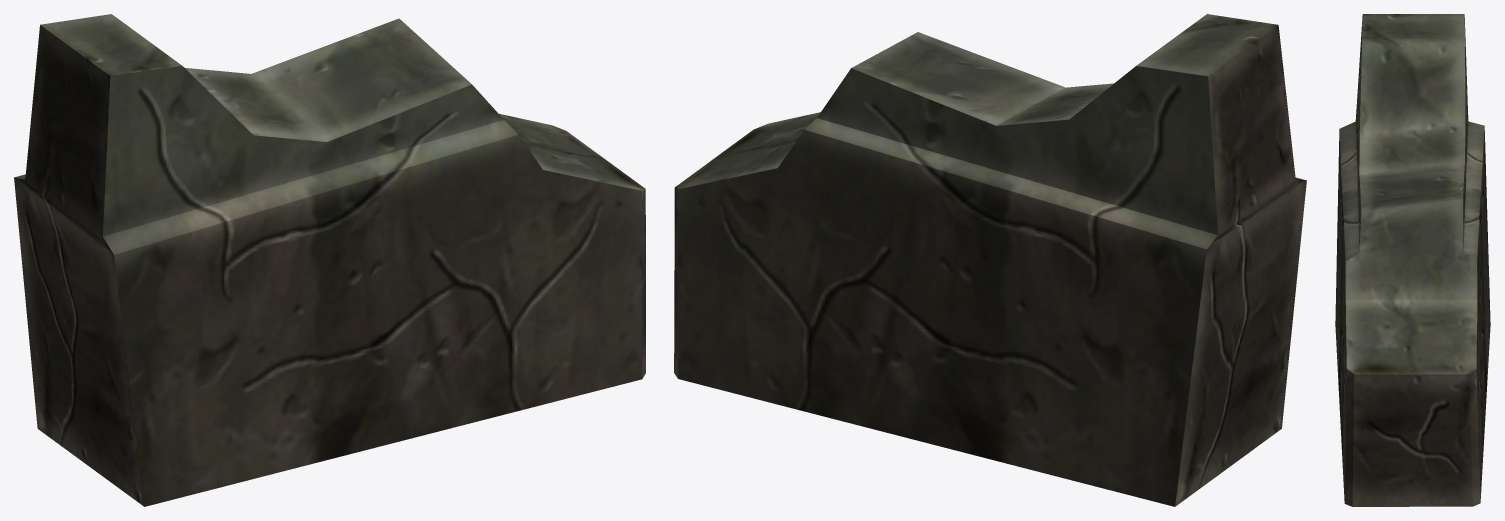
The model's file is WallBreak03.FBX.
The picture shows the model from 3 angles, left to right: view 1: azimuth 30°, elevation 25°; view 2: azimuth 150°, elevation 25°; view 3: azimuth 270°, elevation 25°; orthographic projection. The views are drawn at different scales.
Parts seen in each view (by area): view 1: WallBreak03; view 2: WallBreak03; view 3: WallBreak03.
Part boxes in pixels (x1,y1,x2,y2): WallBreak03: (14, 14, 645, 506); WallBreak03: (674, 14, 1306, 506); WallBreak03: (1335, 14, 1490, 506).
Size of the model in its own units: 37.73 by 27.99 by 12.88.
